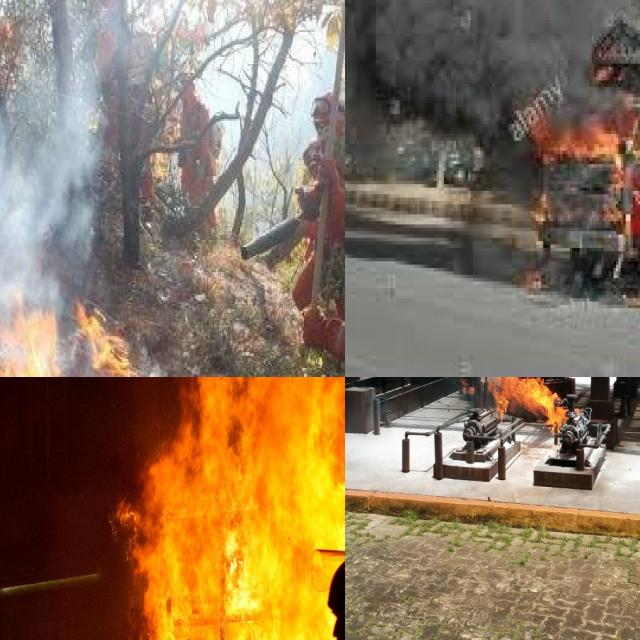fire: (132, 377, 345, 640), (519, 73, 640, 184), (499, 377, 571, 435)
smoke: (0, 0, 150, 368), (345, 0, 621, 134)
